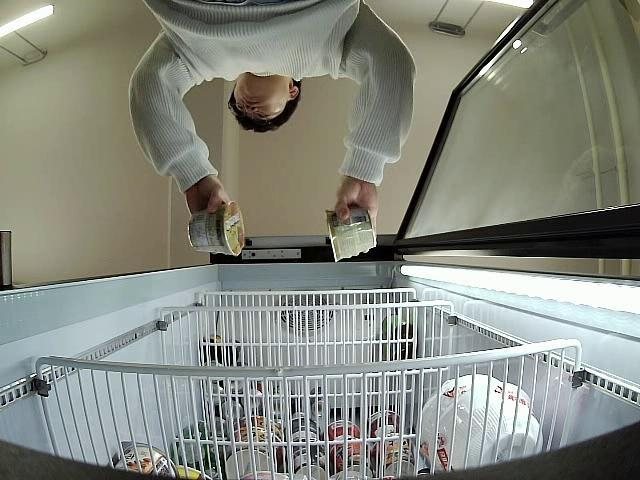04_chapagetti_S: (188, 203, 246, 256), (324, 207, 376, 262)
